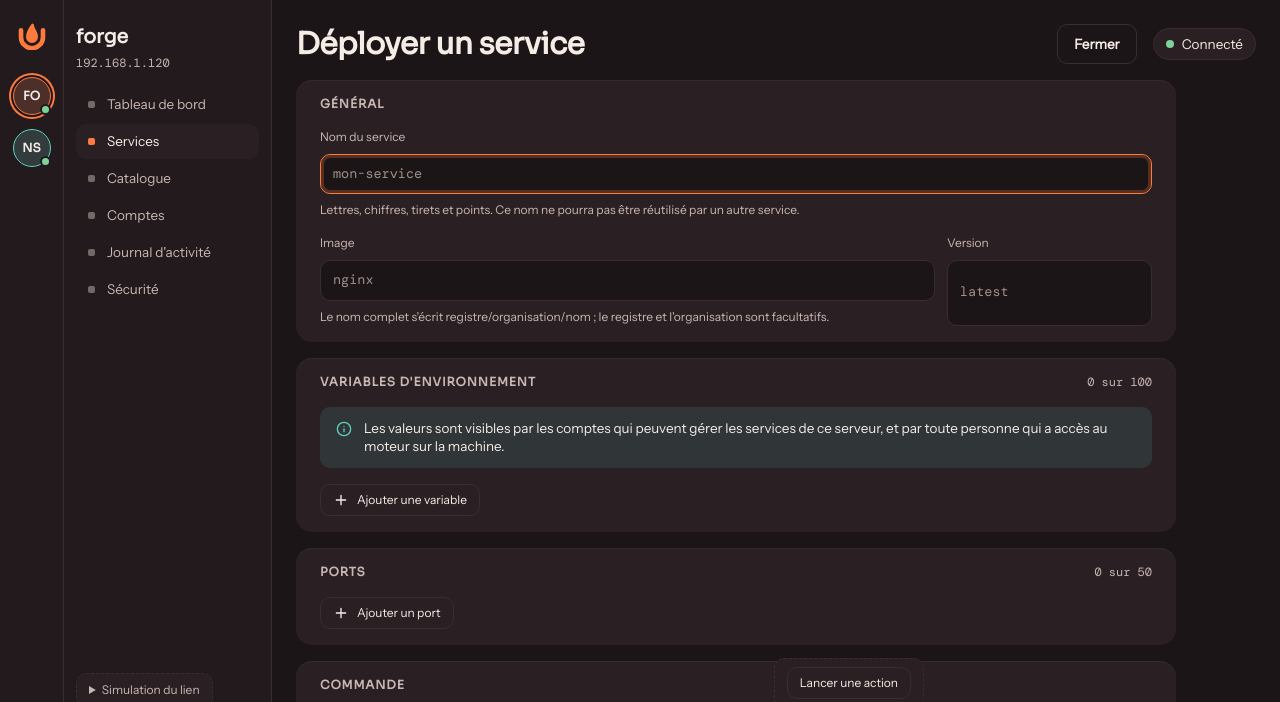
Test: le formulaire (BR-DEPLOY-002 à 007, 014) › n'affiche une erreur de forme qu'une fois le champ quitté, jamais pendant la frappe
The image size is (1280, 702).
Type "-" into the field labelled "Nom du service" at (736, 174), box [321,155,1151,194]
Wait 450 ms
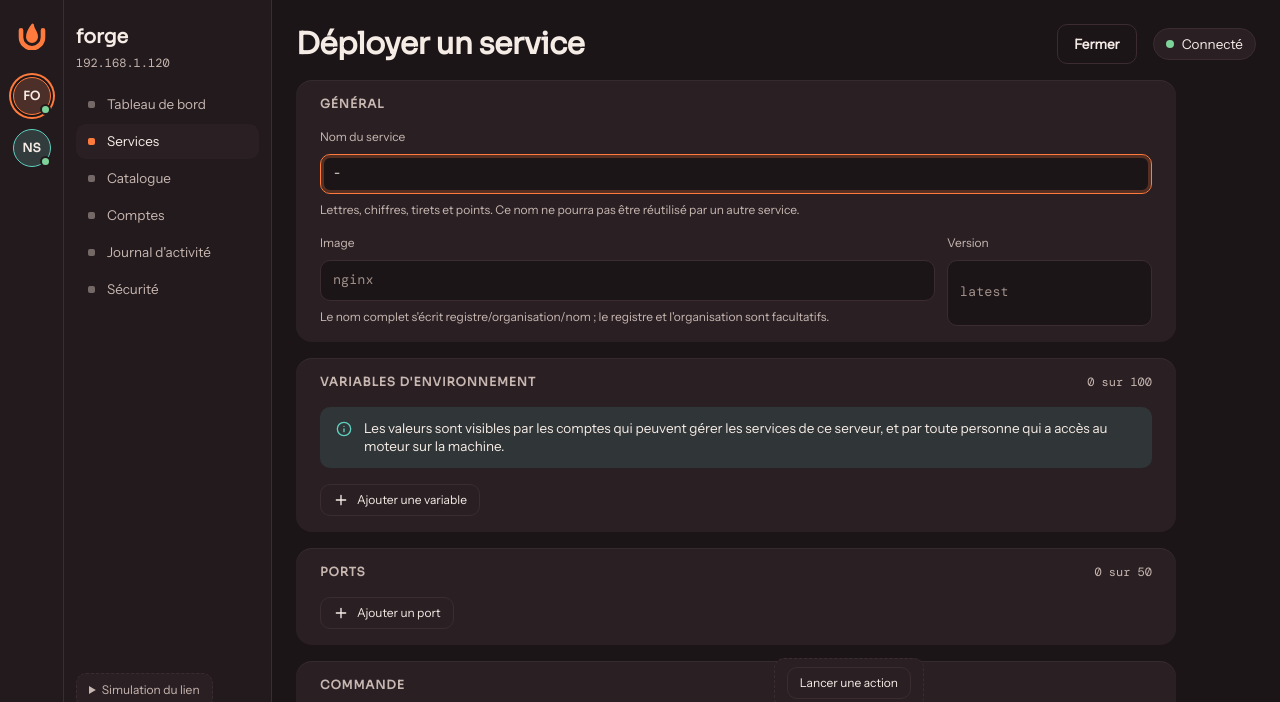
expect the text "Le nom doit commencer par une lettre ou un chiffre" is not shown: met
Leave the field labelled "Nom du service", box [321,155,1151,194]
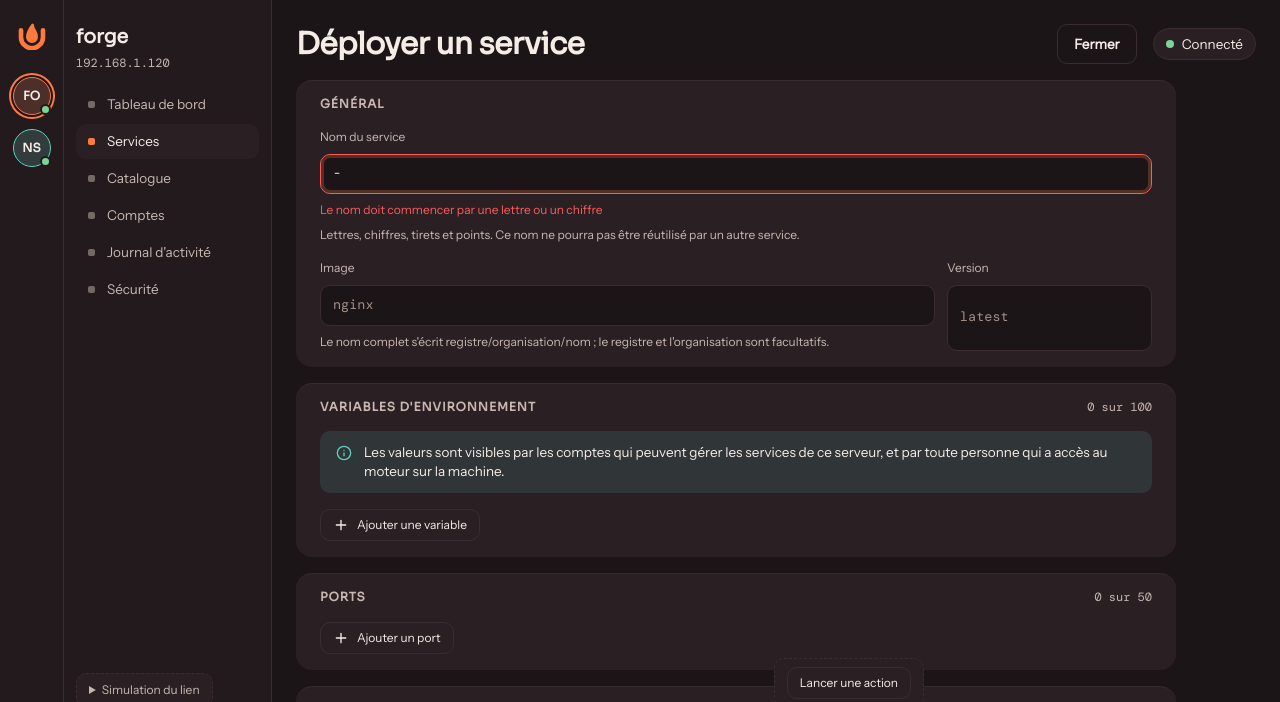
expect the message "Le nom doit commencer par une lettre ou un chiffre" is shown: met, box [320,202,602,218]
Replace the text in the field labelled "Nom du service" with "a" at (736, 174), box [321,155,1151,194]
Wait 450 ms
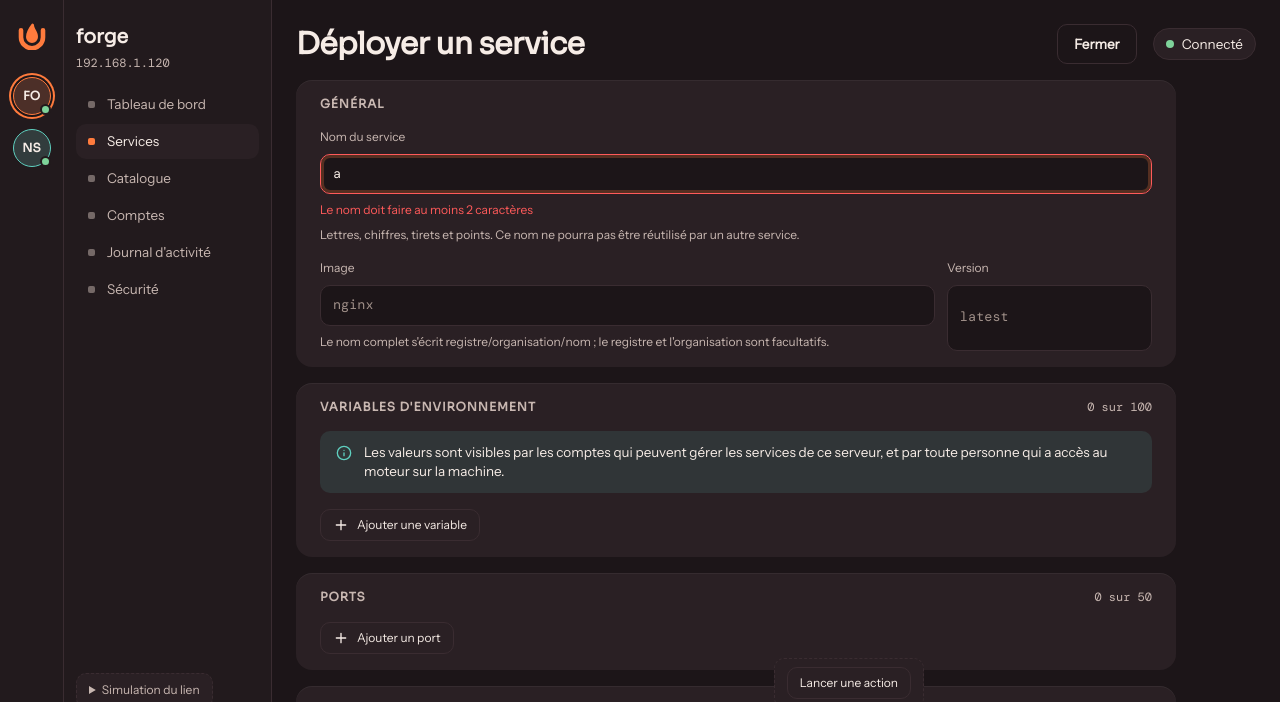
expect the message "Le nom doit faire au moins 2 caractères" is shown: met, box [320,202,533,218]
